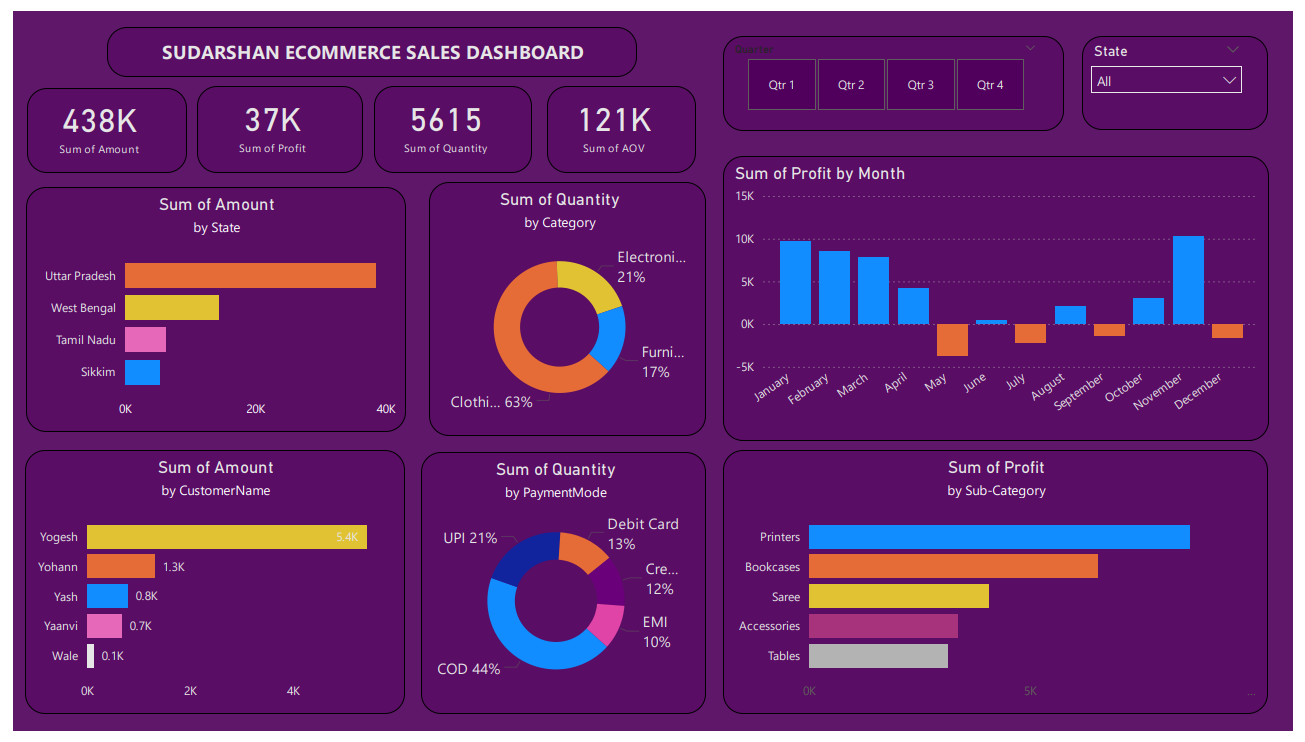

Layout of this report page (visuals, bound fields, positions):
{"tool":"powerbi","page":{"name":"Page 1","canvas":[1280,720],"ordinal":0},"visuals":[{"type":"textbox","box":[93.8,16.2,530,50],"z":0},{"type":"columnChart","fields":{"Category":["Orders.Order Date.Variation.Date Hierarchy.Month"],"Y":["Details.Profit"]},"box":[710,145,546.2,285],"z":1000},{"type":"barChart","fields":{"Category":["Details.Sub-Category"],"Y":["Details.Profit"]},"box":[710,438.8,545,263.8],"z":2000},{"type":"donutChart","fields":{"Y":["Details.Quantity"],"Category":["Details.Category"]},"box":[416.2,171.2,276.2,253.8],"z":3000},{"type":"donutChart","fields":{"Y":["Details.Quantity"],"Category":["Details.PaymentMode"]},"box":[407.5,441.2,285,261.2],"z":4000},{"type":"card","fields":{"Values":["Details.Amount"]},"box":[13.7,76.8,160.5,85.1],"z":5000},{"type":"card","fields":{"Values":["Details.Profit"]},"box":[183.9,75.5,166,86.4],"z":6000},{"type":"card","fields":{"Values":["Details.Quantity"]},"box":[360.9,75.5,157.8,86.4],"z":7000},{"type":"card","fields":{"Values":["Details.AOV"]},"box":[533.8,75.5,149.6,86.4],"z":8000},{"type":"barChart","fields":{"Category":["Orders.State"],"Y":["Details.Amount"]},"box":[13.3,176.1,379.9,244.8],"z":9000},{"type":"barChart","fields":{"Category":["Orders.CustomerName"],"Y":["Details.Amount"]},"box":[12.3,439.1,380.1,263.5],"z":10000},{"type":"slicer","fields":{"Values":["Orders.Order Date.Variation.Date Hierarchy.Quarter"]},"box":[710,25,341.2,95],"z":11000},{"type":"slicer","fields":{"Values":["Orders.State"]},"box":[1068.8,25,186.2,93.8],"z":12000}]}

Visuals, with their boxes in screenshot pixels (x1, y1, x2, y2), scaled from the page's 1280x720 canvas onto the 1305x742 screenshot:
textbox: {"x1": 96, "y1": 17, "x2": 636, "y2": 68}
columnChart - Orders.Order Date.Variation.Date Hierarchy.Month x Details.Profit: {"x1": 724, "y1": 149, "x2": 1281, "y2": 443}
barChart - Details.Sub-Category x Details.Profit: {"x1": 724, "y1": 452, "x2": 1280, "y2": 724}
donutChart - Details.Quantity x Details.Category: {"x1": 424, "y1": 176, "x2": 706, "y2": 438}
donutChart - Details.Quantity x Details.PaymentMode: {"x1": 415, "y1": 455, "x2": 706, "y2": 724}
card - Details.Amount: {"x1": 14, "y1": 79, "x2": 178, "y2": 167}
card - Details.Profit: {"x1": 187, "y1": 78, "x2": 357, "y2": 167}
card - Details.Quantity: {"x1": 368, "y1": 78, "x2": 529, "y2": 167}
card - Details.AOV: {"x1": 544, "y1": 78, "x2": 697, "y2": 167}
barChart - Orders.State x Details.Amount: {"x1": 14, "y1": 181, "x2": 401, "y2": 434}
barChart - Orders.CustomerName x Details.Amount: {"x1": 13, "y1": 453, "x2": 400, "y2": 724}
slicer - Orders.Order Date.Variation.Date Hierarchy.Quarter: {"x1": 724, "y1": 26, "x2": 1072, "y2": 124}
slicer - Orders.State: {"x1": 1090, "y1": 26, "x2": 1280, "y2": 122}
